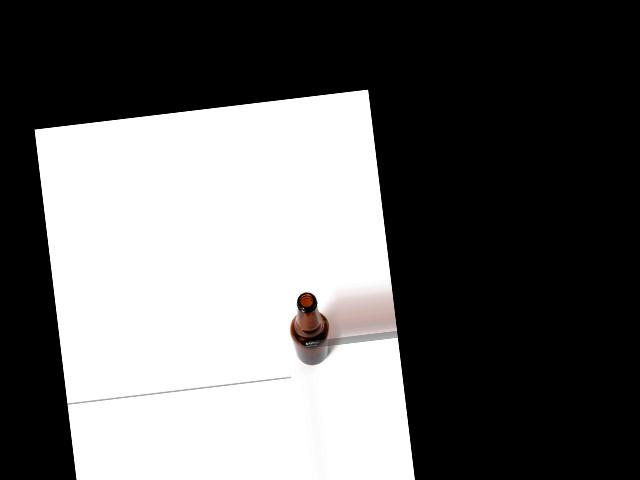beer: (286, 290, 334, 367)
